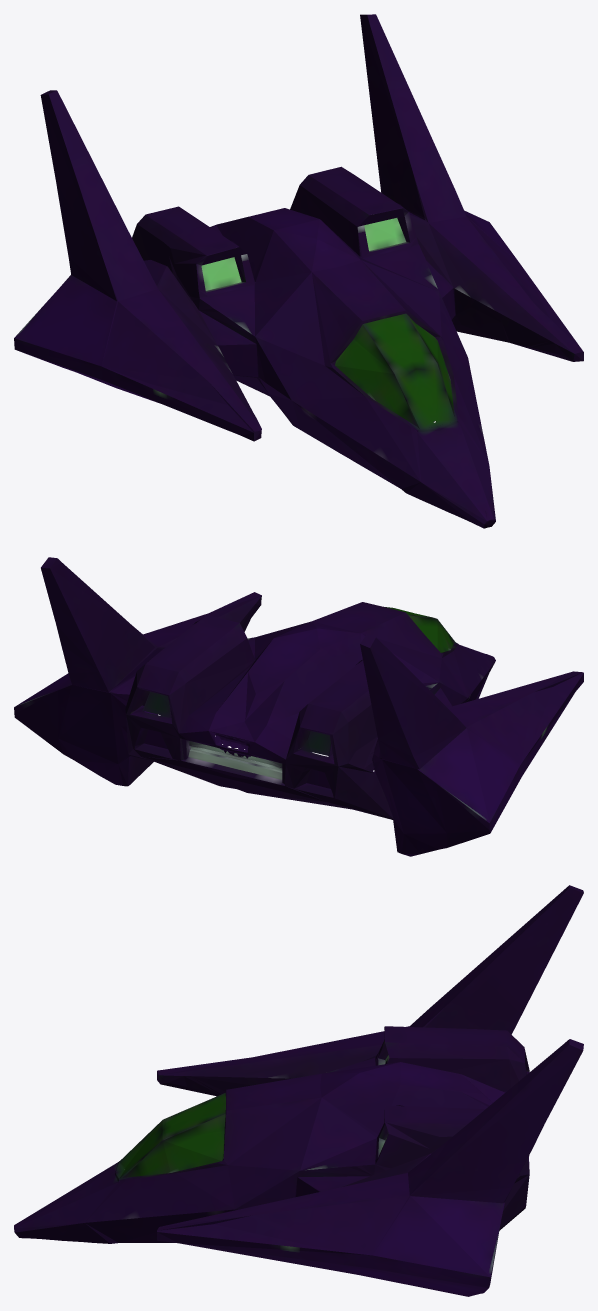
The picture shows the model from 3 angles, top to bottom: view 1: azimuth 30°, elevation 25°; view 2: azimuth 150°, elevation 25°; view 3: azimuth 270°, elevation 25°; orthographic projection.
Visible parts, largest first — view 1: world; view 2: world, object 2; view 3: world.
Part boxes in pixels (<box>): world: <box>14,14,583,528</box>; world: <box>14,557,583,856</box>; object 2: <box>215,733,250,758</box>; world: <box>14,885,583,1296</box>.
Size of the model in its own units: 0.9639 by 0.5288 by 1.
2 materials, 1 textured.
